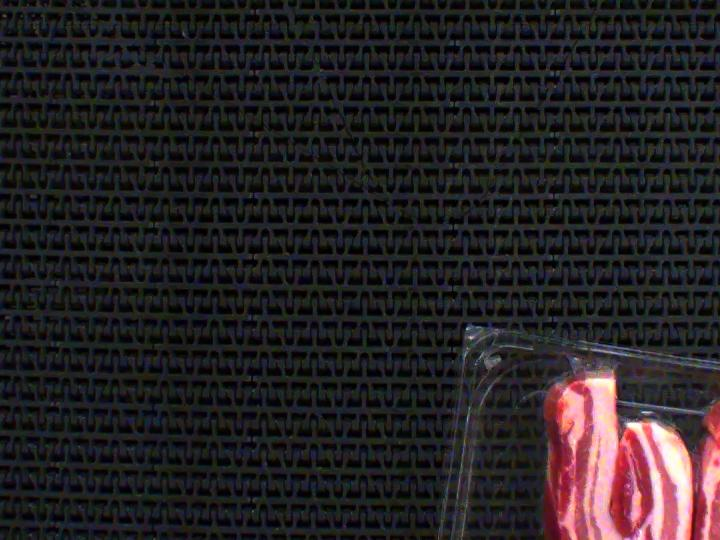unsealed: (532, 358, 720, 504)
